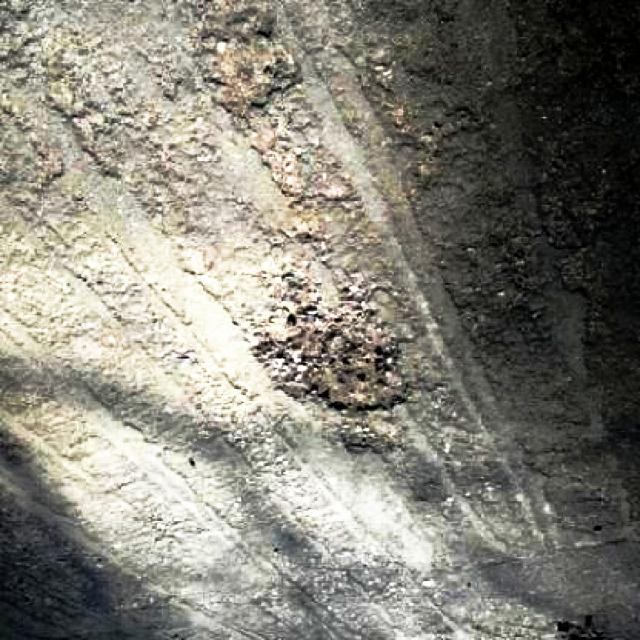pothole: (196, 3, 342, 211), (257, 276, 414, 418), (340, 412, 403, 457)
